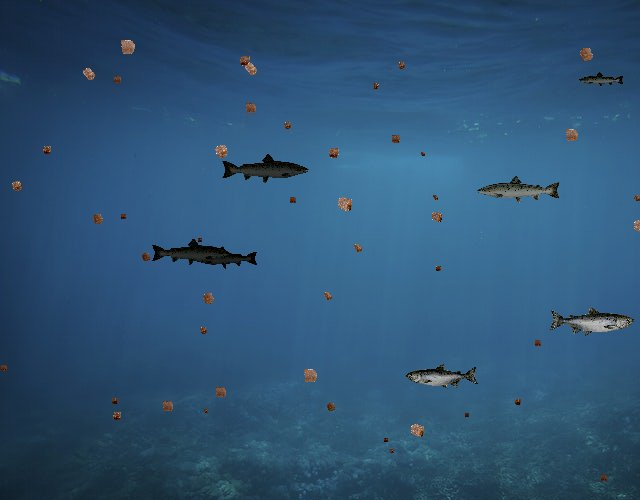Fish: (220, 152, 310, 185), (476, 174, 562, 205), (548, 306, 634, 337), (150, 238, 231, 267), (406, 363, 479, 389), (192, 245, 260, 270), (579, 72, 626, 89)
Pellet: (112, 32, 142, 62), (5, 175, 28, 197), (233, 50, 256, 72), (348, 238, 367, 257), (386, 130, 404, 148), (510, 395, 524, 409), (432, 262, 445, 275), (117, 211, 129, 223), (200, 406, 210, 416)
